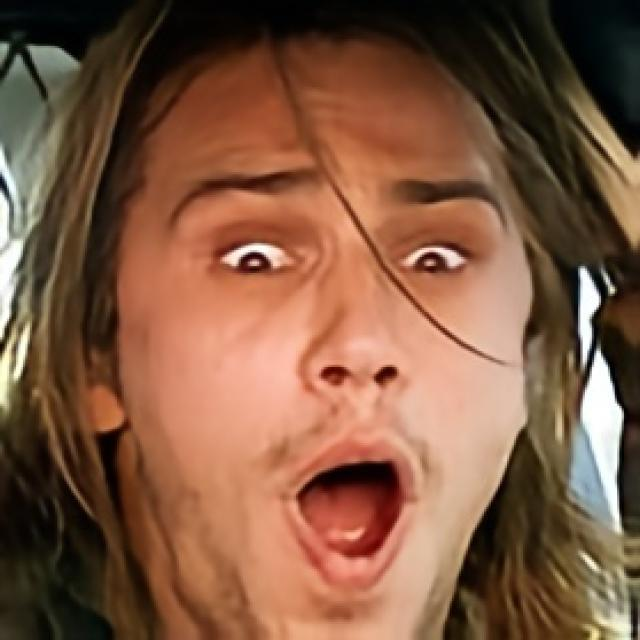fear: (116, 30, 534, 640)
